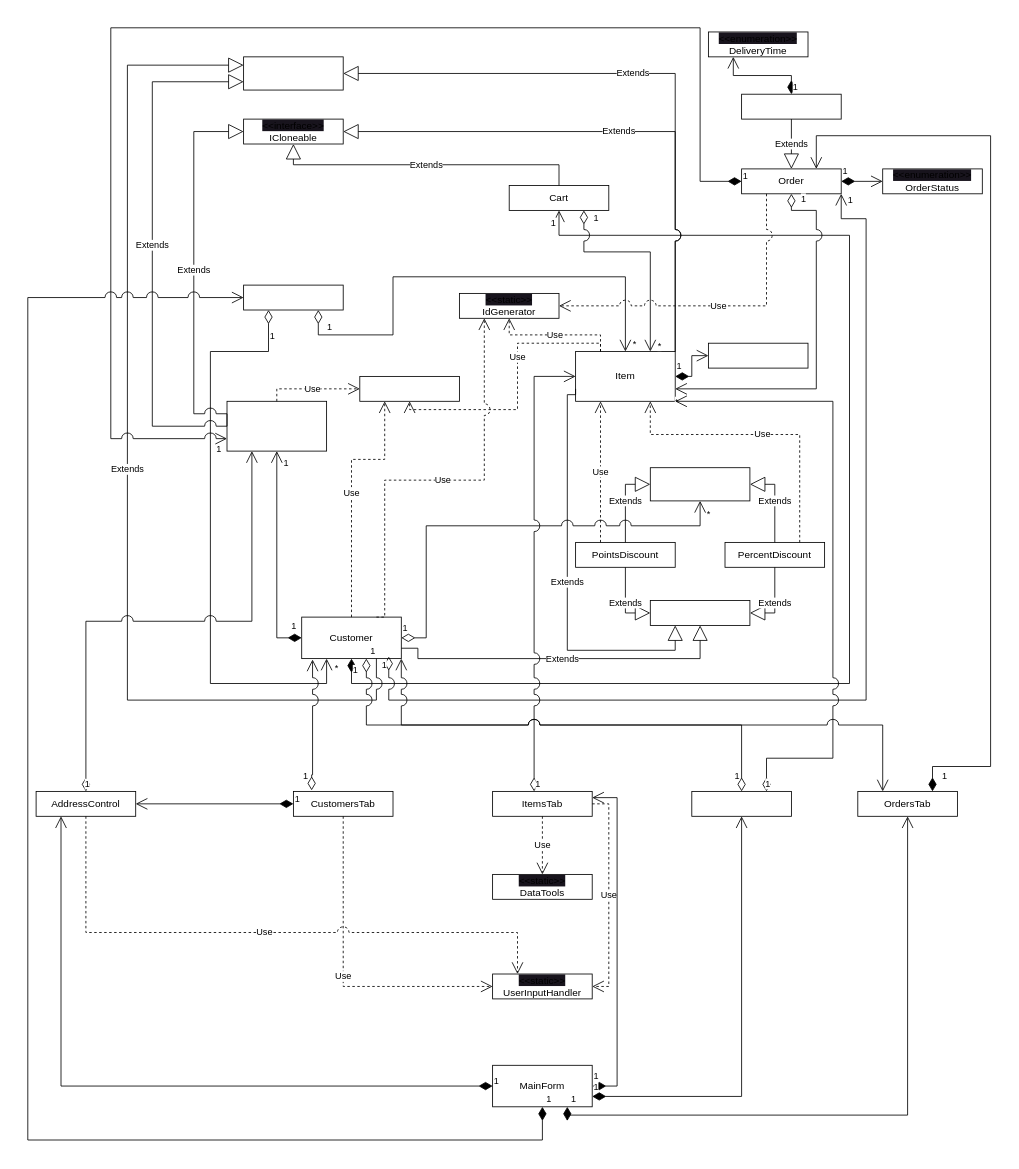
This 1019x1169 diagram has some shape labels left out. The centre of each missing label's shape, as x and y in pixels:
"<<enumeration>> Category" belongs at [758,355].
"<<interface>> IComparable" belongs at [699,612].
"<<interface>> IDiscount" belongs at [699,484].
"<<interface>> IEquitable" belongs at [293,73].
"<<static>> Validator" belongs at [409,388].
"Address" belongs at [276,425].
"CartsTab" belongs at [741,803].
"PriorityOrder" belongs at [791,106].
"Store" belongs at [293,297].
